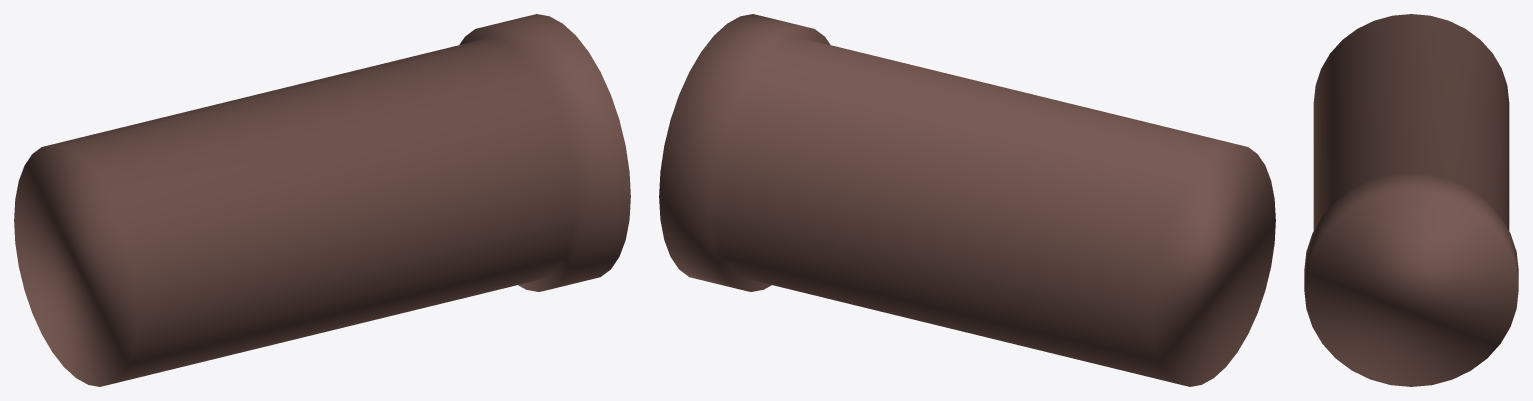
File: straight_pipe01.glb
3 renders of one model, left to right at view 1: azimuth 30°, elevation 25°; view 2: azimuth 150°, elevation 25°; view 3: azimuth 270°, elevation 25°, orthographic. The views are drawn at different scales.
Visible parts, largest first — view 1: StraightPipe-col; view 2: StraightPipe-col; view 3: StraightPipe-col.
Boxes of the visible parts, x1,y1,x2,y2 form: StraightPipe-col: (14, 14, 630, 386); StraightPipe-col: (659, 14, 1275, 386); StraightPipe-col: (1304, 14, 1518, 386).
Bounding box in the file's own units: 57.86 × 28.02 × 28.02.
